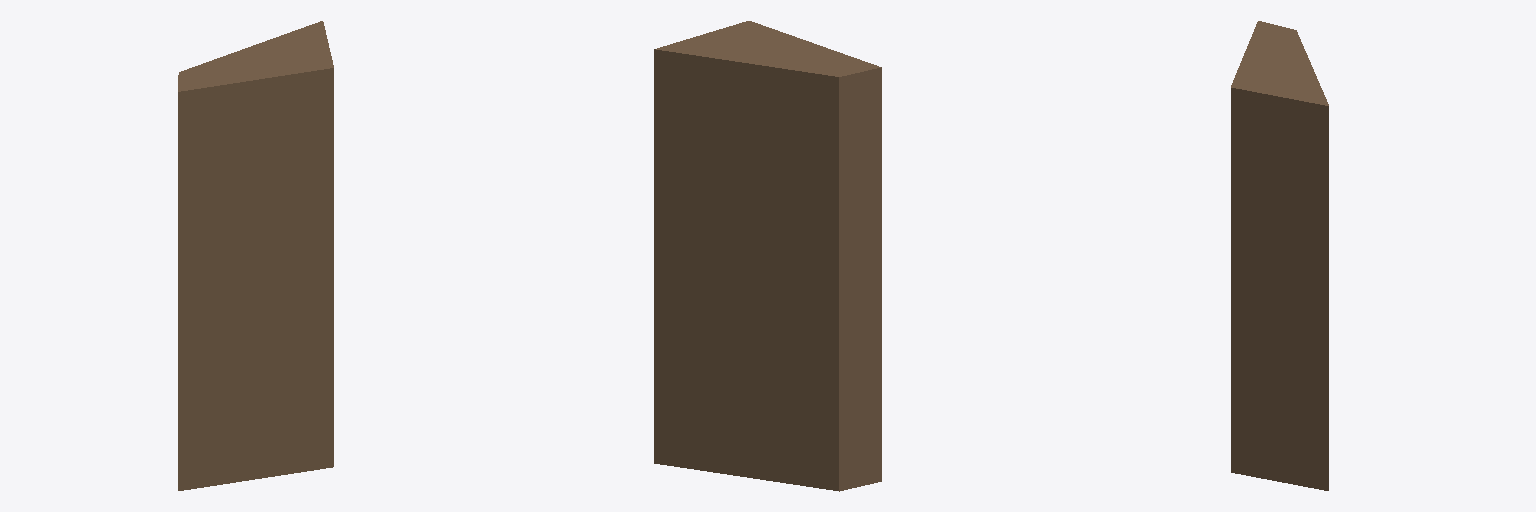
The robot description file, URDF, robot "quad_prism_8":
<?xml version="1.0" ?>
<robot name="quad_prism_8">
  <link name="base_link">
    <visual>
      <origin xyz="0 0 0" rpy="0 0 0"/>
      <geometry>
        <mesh filename="quad_prism_8.stl"/>
      </geometry>
      <material name="color">
        <color rgba="0.5176103784416423 0.4282562665292907 0.33724765572935744 1.0"/>
      </material>
    </visual>
    <collision>
      <origin xyz="0 0 0" rpy="0 0 0"/>
      <geometry>
        <mesh filename="quad_prism_8.stl"/>
      </geometry>
    </collision>
    <inertial>
      <origin xyz="0 0 0" rpy="0 0 0"/>
      <mass value="1.0"/>
      <inertia ixx="0.1" ixy="0" ixz="0" iyy="0.1" iyz="0" izz="0.1"/>
    </inertial>
  </link>
</robot>

--- What the picture shows (computed from the rendered views, not written in the file) ---
3 views of the same robot in one strip: view 1: azimuth 30°, elevation 25°; view 2: azimuth 150°, elevation 25°; view 3: azimuth 270°, elevation 25° (orthographic).
Model quad_prism_8 with 1 links and 0 joints (none), rooted at base_link, posed every joint at zero.
Visible links, largest first — view 1: base_link; view 2: base_link; view 3: base_link.
Link boxes in pixels (bbox=[...]): base_link: bbox=[178, 21, 333, 490]; base_link: bbox=[654, 21, 881, 491]; base_link: bbox=[1231, 21, 1328, 490].
Bounding box of the posed robot: 1.43 × 0.6984 × 3 m (x, y, z).
Meshes: 1 distinct files referenced, 1 mesh visuals loaded (1 binary STL).